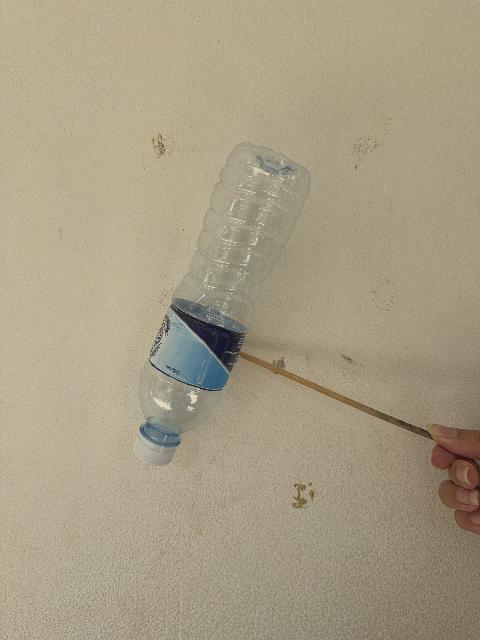bottle: (134, 143, 310, 465)
